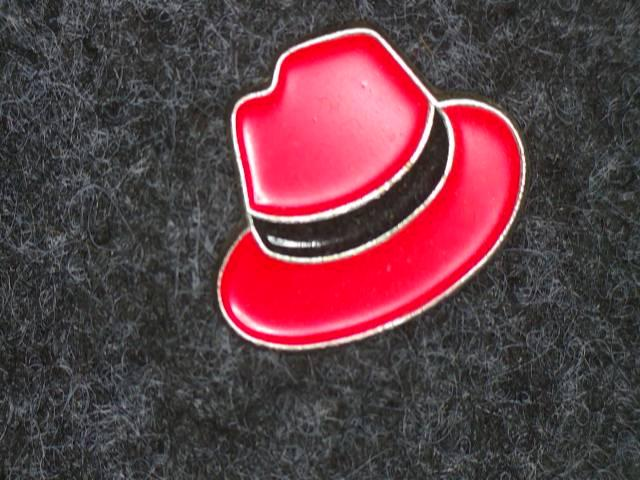Red-Hat: (188, 23, 538, 381)
